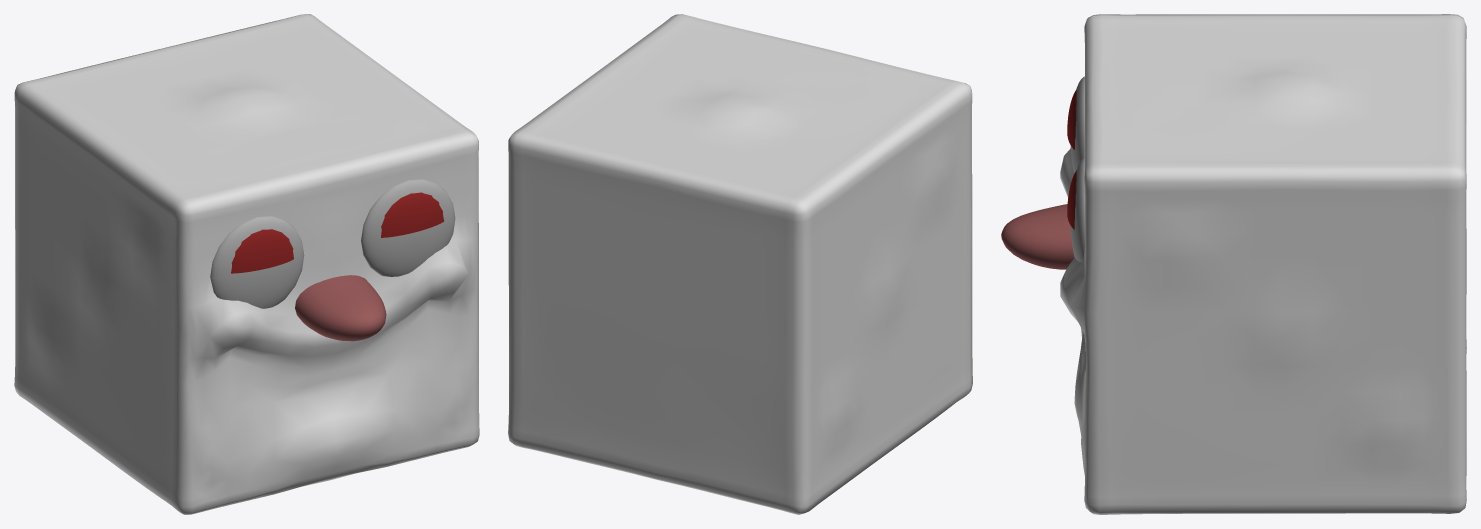
Rendered from faceSmile.fbx.
3 renders of one model, left to right at view 1: azimuth 30°, elevation 25°; view 2: azimuth 150°, elevation 25°; view 3: azimuth 270°, elevation 25°, orthographic. The views are drawn at different scales.
Visible parts, largest first — view 1: faceSmile; view 2: faceSmile; view 3: faceSmile.
Boxes of the visible parts, x1,y1,x2,y2 form: faceSmile: [14, 14, 479, 514]; faceSmile: [508, 14, 972, 514]; faceSmile: [1001, 14, 1466, 514].
Size of the model in its own units: 104 by 104 by 124.
